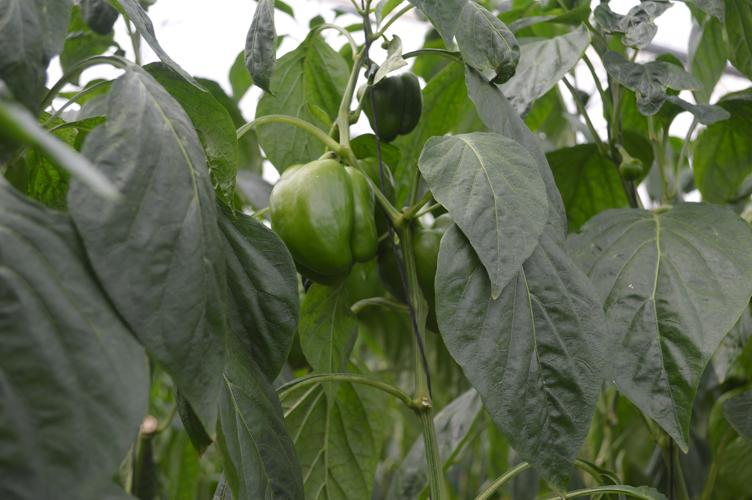BellPepper: (271, 162, 377, 278), (376, 215, 451, 336), (354, 72, 426, 143)
